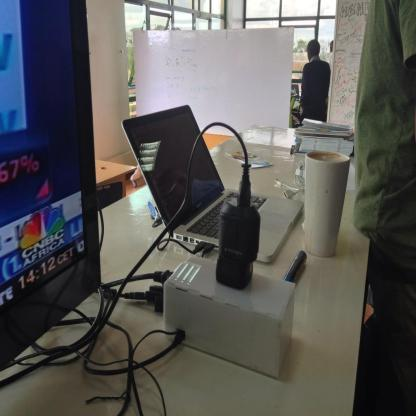board: (120, 104, 303, 265), (290, 83, 300, 102)
